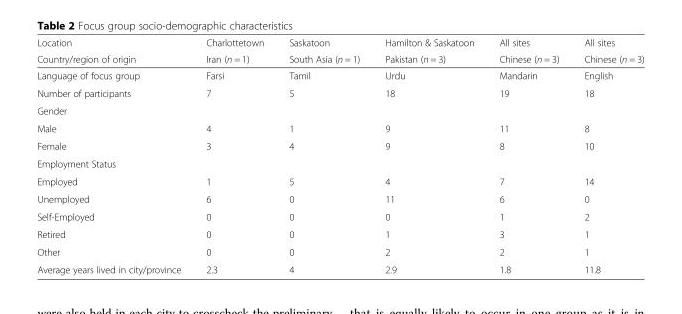table: (36, 36, 643, 274)
table column: (36, 36, 192, 274), (371, 36, 486, 274), (275, 36, 371, 274), (486, 36, 571, 274), (192, 36, 275, 274), (571, 36, 643, 274)
table column header: (36, 36, 643, 66)
table projected row header: (36, 101, 643, 119), (36, 154, 643, 172)
table row: (36, 66, 643, 84), (36, 101, 643, 119), (36, 136, 643, 154), (36, 154, 643, 172), (36, 189, 643, 207), (36, 207, 643, 225), (36, 242, 643, 260), (36, 84, 643, 101), (36, 119, 643, 136), (36, 172, 643, 189), (36, 225, 643, 242), (36, 50, 643, 66), (36, 36, 643, 50), (36, 260, 643, 274)
table spanning cell: (36, 36, 192, 66), (371, 36, 486, 66), (275, 36, 371, 66), (486, 36, 571, 66), (192, 36, 275, 66), (571, 36, 643, 66)
